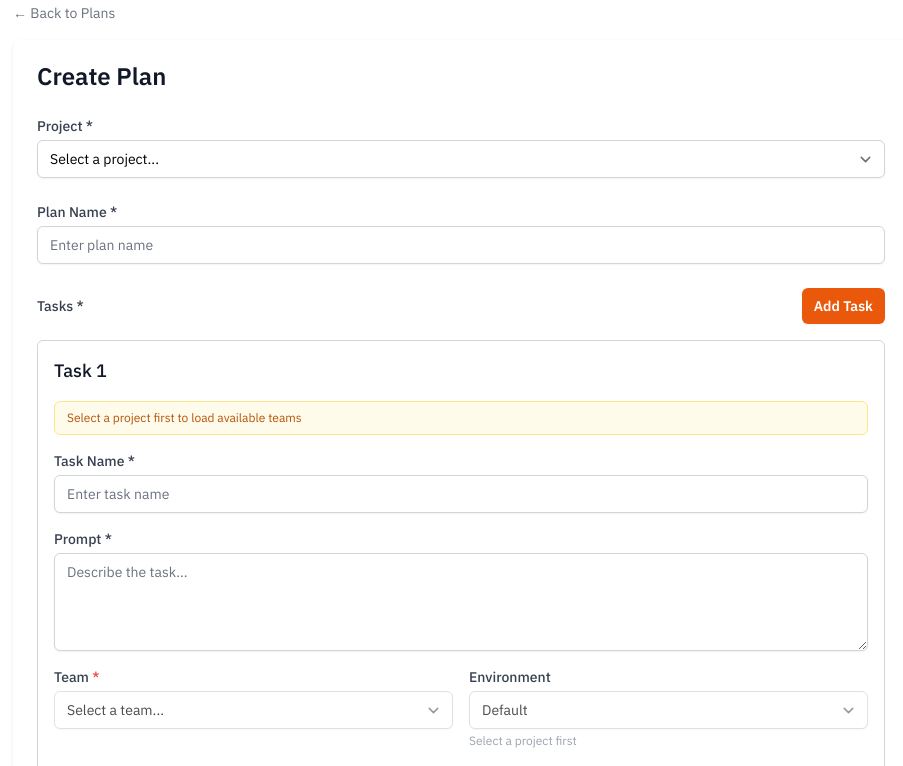
Test case: CreatePlanForm › updates cwd to workspace project root when workspace is selected without environment
# First select a project to enable workspace selection
Select "Project 1" in the dropdown labelled "Project *" at coordinates (461, 159), box [37,140,885,178]
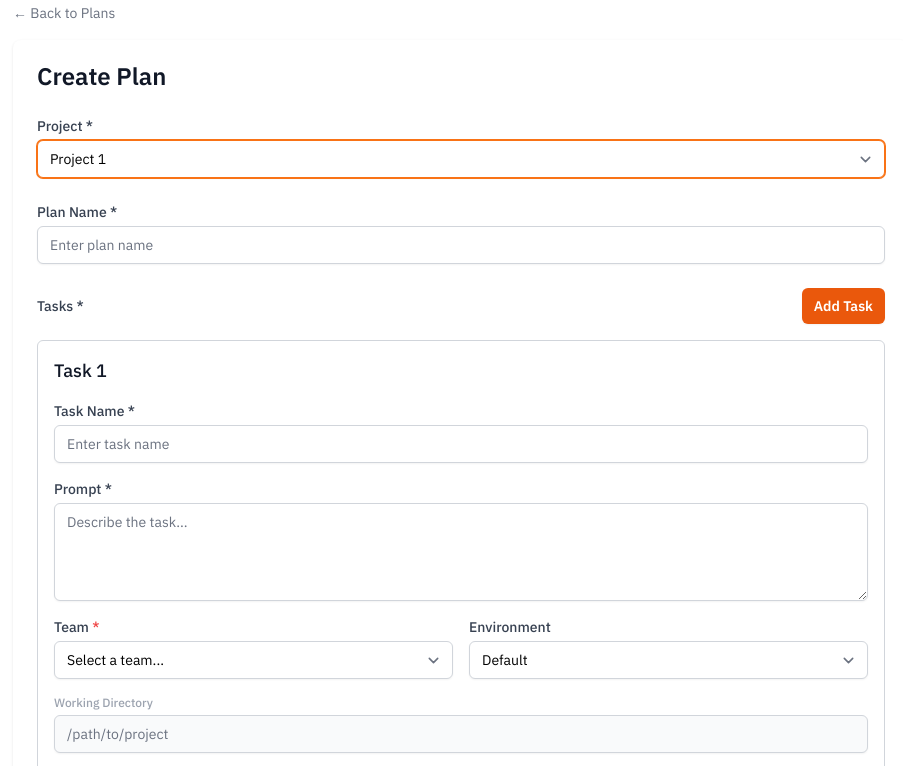
# Select a workspace (without selecting environment)
Select "Agent Workspace 1" in the dropdown labelled "Team *" at coordinates (254, 660), box [54,641,453,679]
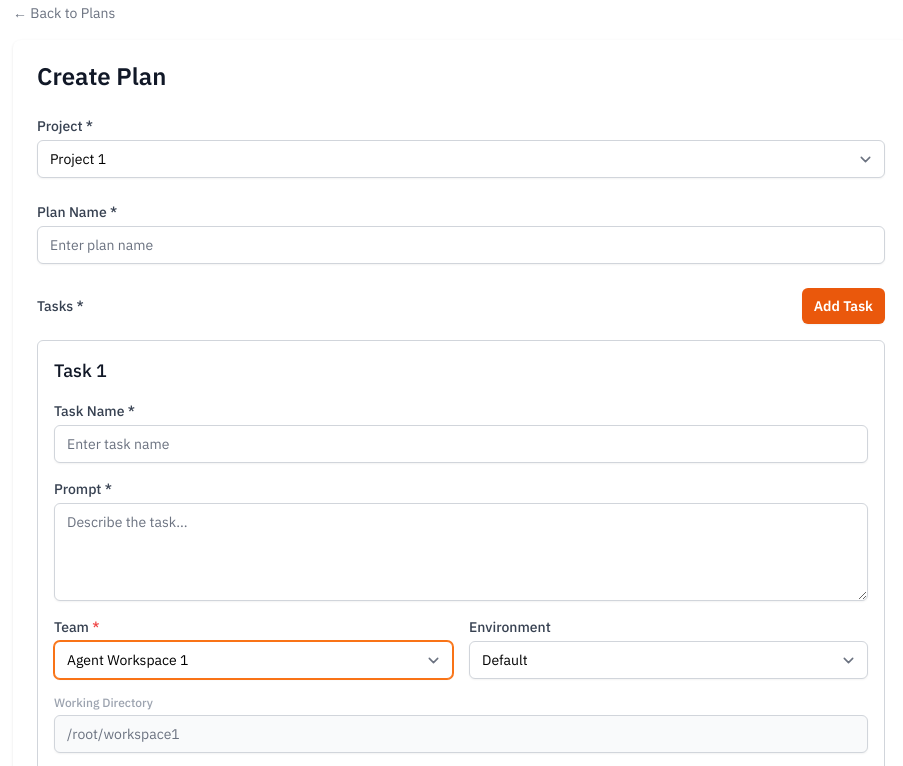
Expected: the field with placeholder "/path/to/project" holds "/root/workspace1", [54,715,868,753]
